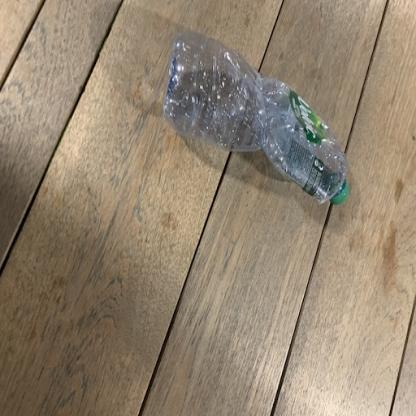trash: (164, 28, 354, 208)
